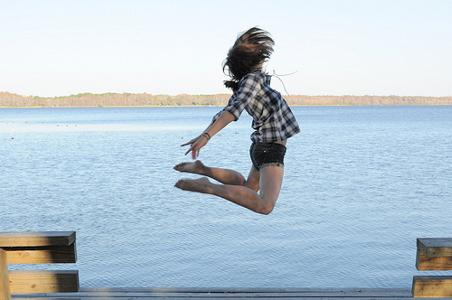person: (173, 24, 297, 219)
